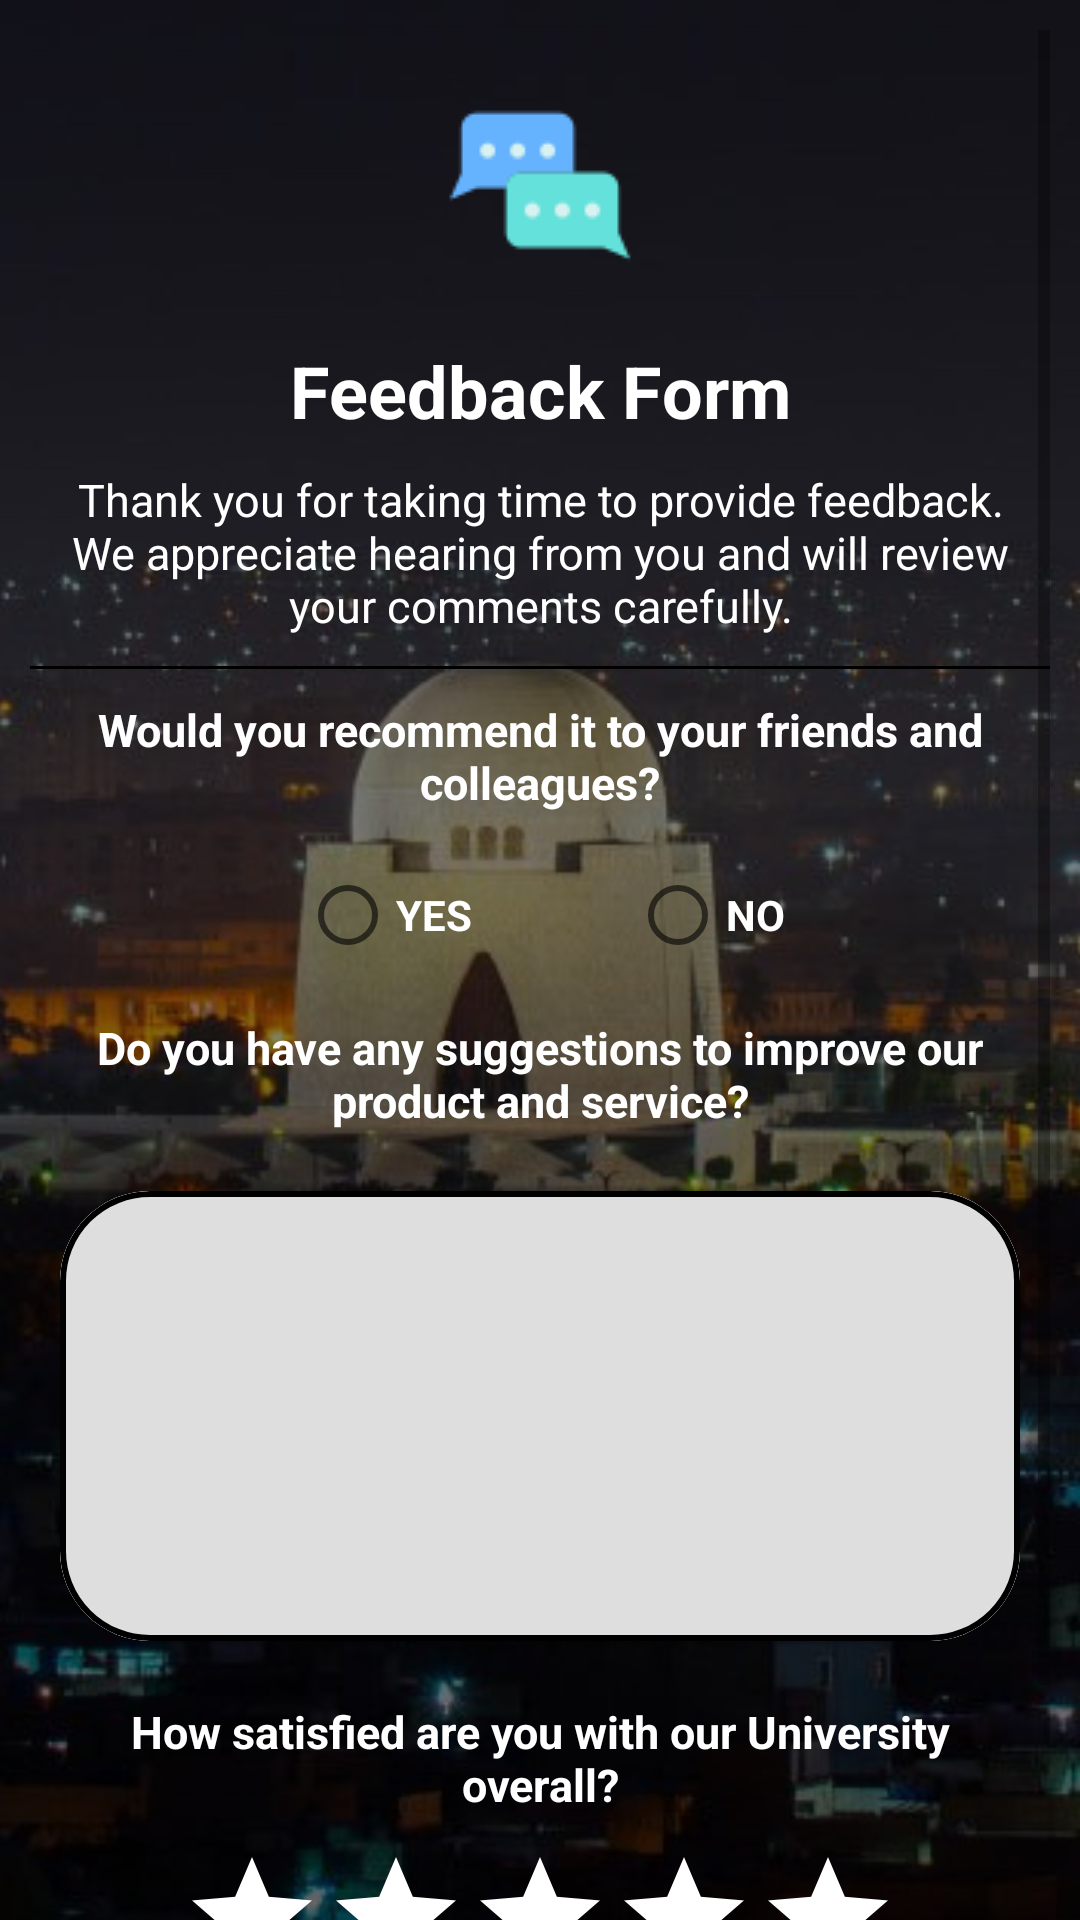

Named icons in this screenshot (1080 × 1920) and their bounding boxes, (x1, y1, x2, y2):
contactformbtn: (449, 110, 631, 259)
